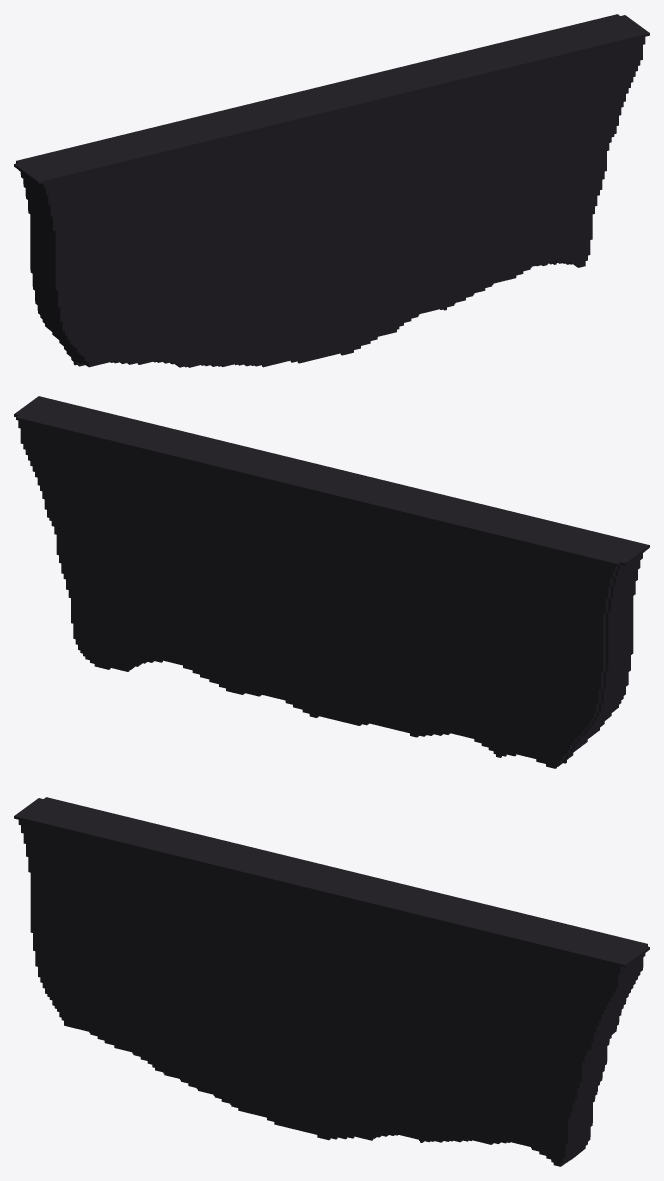
The model's file is Potolok.glb.
3 renders of one model, top to bottom at view 1: azimuth 30°, elevation 25°; view 2: azimuth 150°, elevation 25°; view 3: azimuth 330°, elevation 25°, orthographic.
Visible parts, largest first — view 1: Untitled.010, Untitled.009, Untitled.008; view 2: Untitled.010, Untitled.009, Untitled.008; view 3: Untitled.010, Untitled.009, Untitled.008.
Boxes of the visible parts, box(x1,y1,x2,y2) form: Untitled.010: box(107, 49, 501, 367); Untitled.009: box(475, 14, 649, 281); Untitled.008: box(14, 138, 134, 367); Untitled.010: box(159, 432, 553, 757); Untitled.009: box(14, 396, 186, 671); Untitled.008: box(527, 522, 649, 768); Untitled.010: box(109, 819, 503, 1142); Untitled.009: box(477, 909, 649, 1166); Untitled.008: box(14, 797, 136, 1043).
Size of the model in its own units: 25.6 by 9.9 by 2.
Materials: 3 (3 with a texture image).
